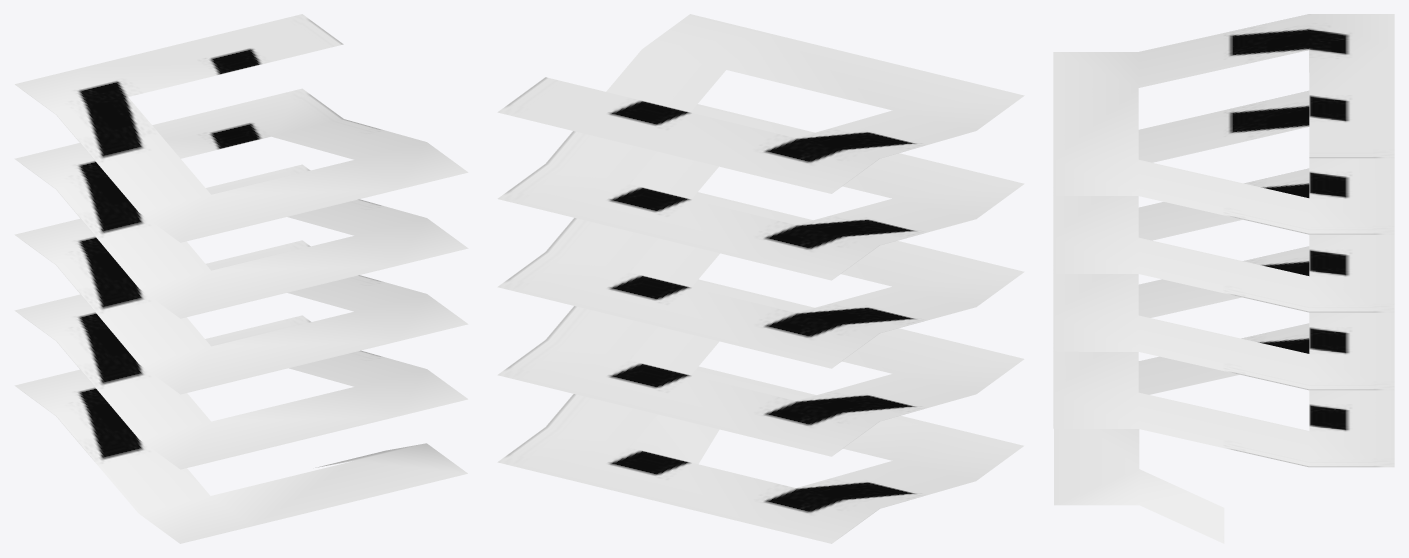
File: ying.obj
The picture shows the model from 3 angles, left to right: view 1: azimuth 30°, elevation 25°; view 2: azimuth 150°, elevation 25°; view 3: azimuth 270°, elevation 25°; orthographic projection. The views are drawn at different scales.
Parts seen in each view (by area): view 1: ying; view 2: ying; view 3: ying.
Part boxes in pixels (<box>): ying: <box>14,14,468,543</box>; ying: <box>497,14,1024,543</box>; ying: <box>1053,14,1394,543</box>.
Bounding box in the file's own units: 400 × 499 × 400.
